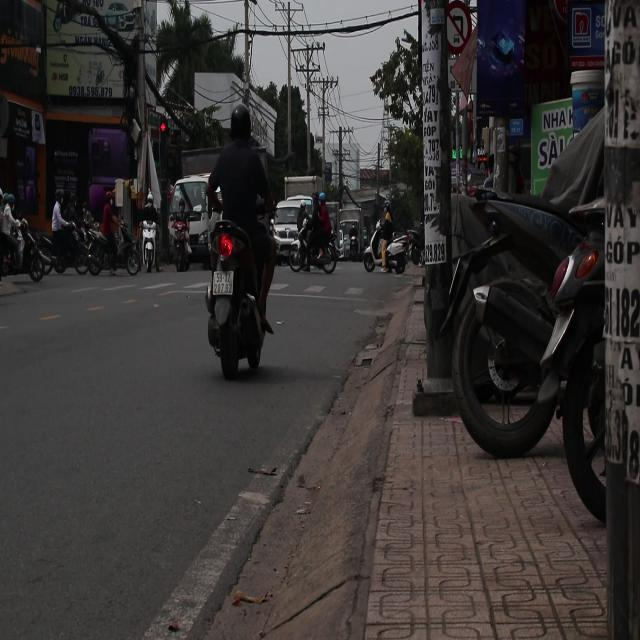motorbike: (203, 218, 270, 378), (0, 206, 47, 281), (88, 205, 130, 277), (136, 206, 164, 292), (289, 227, 339, 275), (50, 224, 91, 275), (382, 231, 414, 274), (170, 218, 194, 272)
truck: (171, 178, 213, 262), (332, 204, 367, 264), (271, 198, 313, 245)
